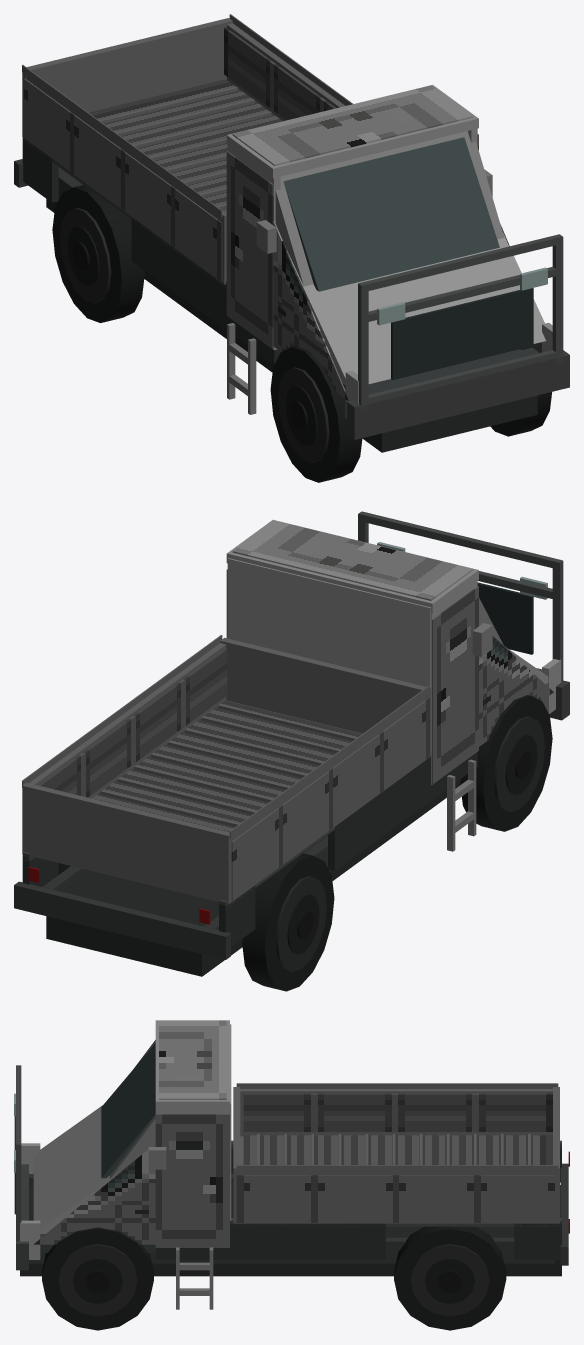
Rendered from CMU3DRMCPropVehicleLoaderTruckWhiteF.glb.
3 views of the same model, one above another, from view 1: azimuth 30°, elevation 25°; view 2: azimuth 150°, elevation 25°; view 3: azimuth 270°, elevation 25° (orthographic). The views are drawn at different scales.
Parts seen in each view (by area): view 1: sloped windshield, original cargo panel -1, rear tailgate, raked hood, original cab roof hatch, front guard grille, original ribbed bed floor, front bumper, original cab door -1, tire 2 -1, wheel gap skirt -1 1, tire 1 -1 (+27 smaller); view 2: cab rear wall, rear tailgate, original ribbed bed floor, original cargo panel -1, bed front board, central ladder chassis, original cab roof hatch, original bed inner wall 1, original cab door -1, rear bumper, tire 2 -1, wheel gap skirt -1 1 (+29 smaller); view 3: original cargo panel 1, original bed inner wall -1, original cab door 1, original ribbed bed floor, wheel gap skirt 1 1, raked hood, original cab roof hatch, tire 2 1, original sloped hood side 1, central ladder chassis, tire 1 1, sloped windshield (+25 smaller).
Part boxes in pixels (<box>): sloped windshield: <box>283,137,499,291</box>; original cargo panel -1: <box>24,78,222,281</box>; rear tailgate: <box>22,18,232,139</box>; raked hood: <box>285,233,545,384</box>; original cab roof hatch: <box>232,85,472,165</box>; front guard grille: <box>391,288,533,379</box>; original ribbed bed floor: <box>89,79,282,211</box>; front bumper: <box>346,350,569,439</box>; original cab door -1: <box>226,151,273,349</box>; tire 2 -1: <box>52,185,144,322</box>; wheel gap skirt -1 1: <box>131,217,280,364</box>; tire 1 -1: <box>270,346,362,482</box>; cab rear wall: <box>227,558,430,687</box>; rear tailgate: <box>22,782,232,904</box>; original ribbed bed floor: <box>92,700,361,831</box>; original cargo panel -1: <box>231,698,429,900</box>; bed front board: <box>220,637,430,758</box>; central ladder chassis: <box>46,779,460,976</box>; original cab roof hatch: <box>232,520,472,600</box>; original bed inner wall 1: <box>38,649,227,797</box>; original cab door -1: <box>432,586,478,784</box>; rear bumper: <box>14,881,230,959</box>; tire 2 -1: <box>242,853,334,991</box>; wheel gap skirt -1 1: <box>328,752,477,870</box>; original cargo panel 1: <box>236,1175,554,1222</box>; original bed inner wall -1: <box>243,1093,552,1131</box>; original cab door 1: <box>155,1114,229,1247</box>; original ribbed bed floor: <box>243,1135,552,1164</box>; wheel gap skirt 1 1: <box>155,1223,385,1259</box>; raked hood: <box>33,1105,122,1233</box>; original cab roof hatch: <box>159,1020,226,1099</box>; tire 2 1: <box>394,1226,506,1330</box>; original sloped hood side 1: <box>34,1143,155,1244</box>; central ladder chassis: <box>20,1185,561,1276</box>; tire 1 1: <box>42,1227,153,1330</box>; sloped windshield: <box>101,1043,155,1178</box>.
Bounding box in the file's own units: 0.972 × 1.17 × 2.57.
Materials: 28 (6 with a texture image).
